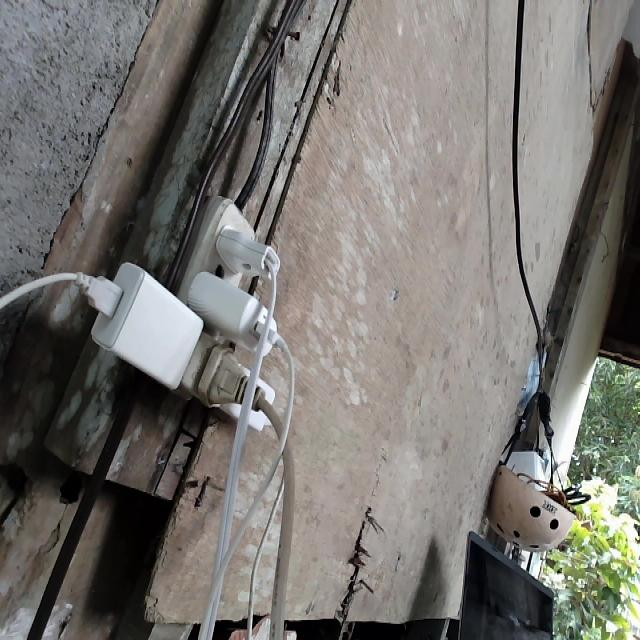-: (51, 152, 318, 487)
